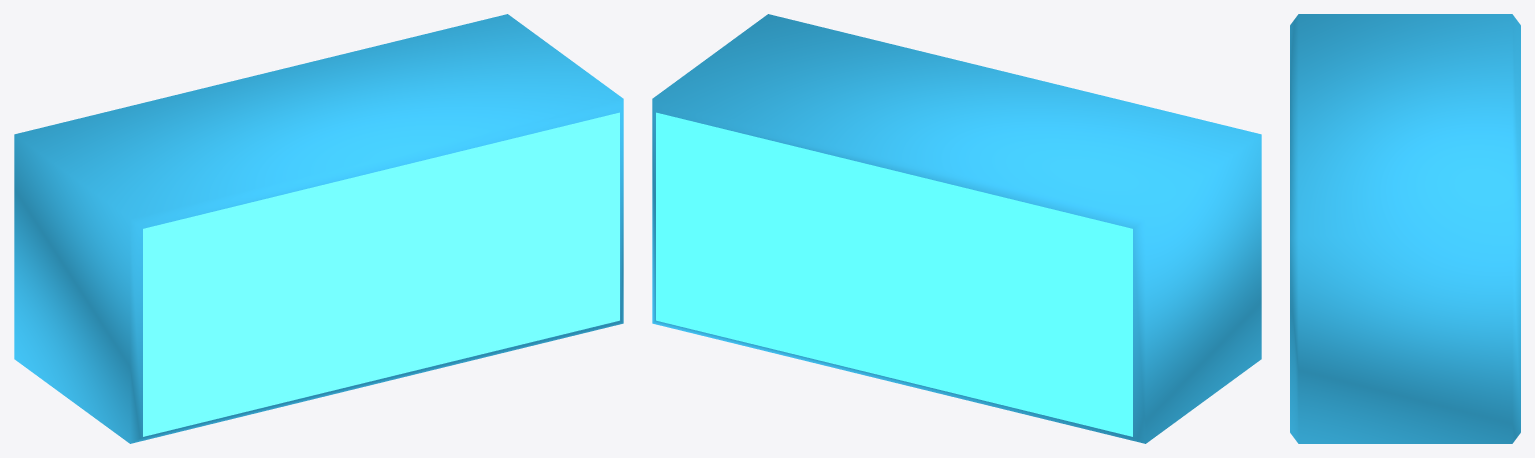
The picture shows the model from 3 angles, left to right: view 1: azimuth 30°, elevation 25°; view 2: azimuth 150°, elevation 25°; view 3: azimuth 270°, elevation 25°; orthographic projection. The views are drawn at different scales.
Visible parts, largest first — view 1: glyph; view 2: glyph; view 3: glyph.
Boxes of the visible parts, x1,y1,x2,y2 form: glyph: (14,14,623,443); glyph: (652,14,1261,443); glyph: (1290,14,1520,443).
Size of the model in its own units: 0.0369 by 0.0161 by 0.0162.
